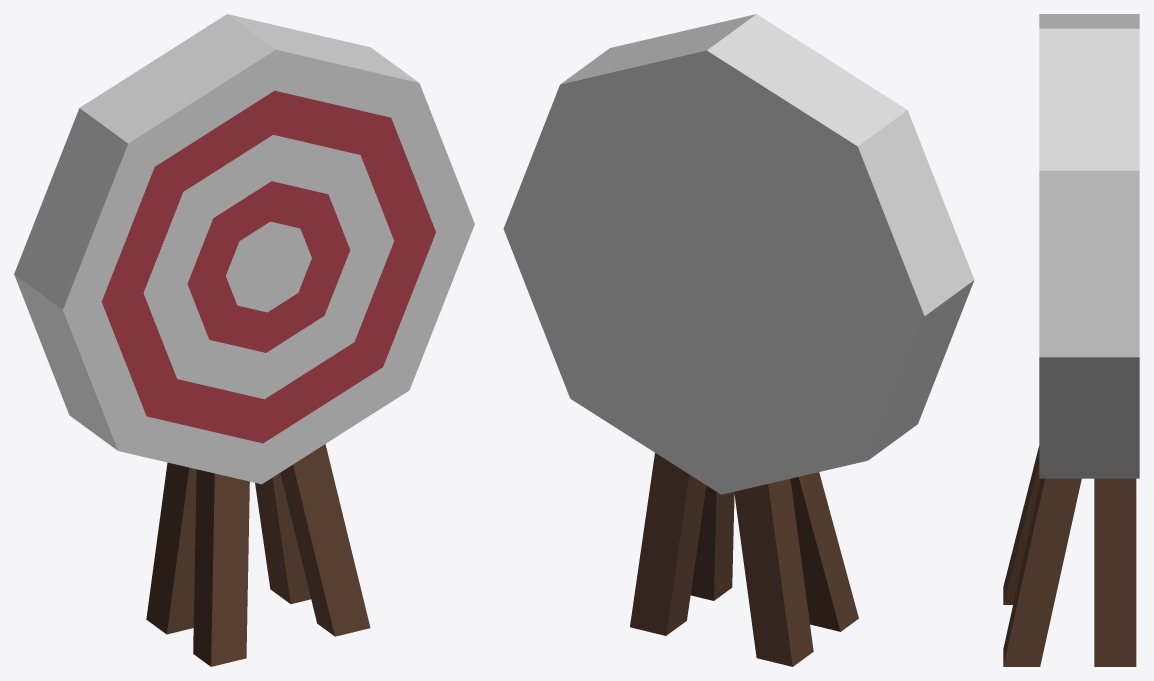
The model's file is target.glb.
The picture shows the model from 3 angles, left to right: view 1: azimuth 30°, elevation 25°; view 2: azimuth 150°, elevation 25°; view 3: azimuth 270°, elevation 25°; orthographic projection. The views are drawn at different scales.
Visible parts, largest first — view 1: Target.005; view 2: Target.005; view 3: Target.005.
Boxes of the visible parts, x1,y1,x2,y2 form: Target.005: (14, 14, 474, 666); Target.005: (503, 14, 974, 666); Target.005: (1003, 14, 1139, 666).
Size of the model in its own units: 0.5264 by 0.7132 by 0.1469.
